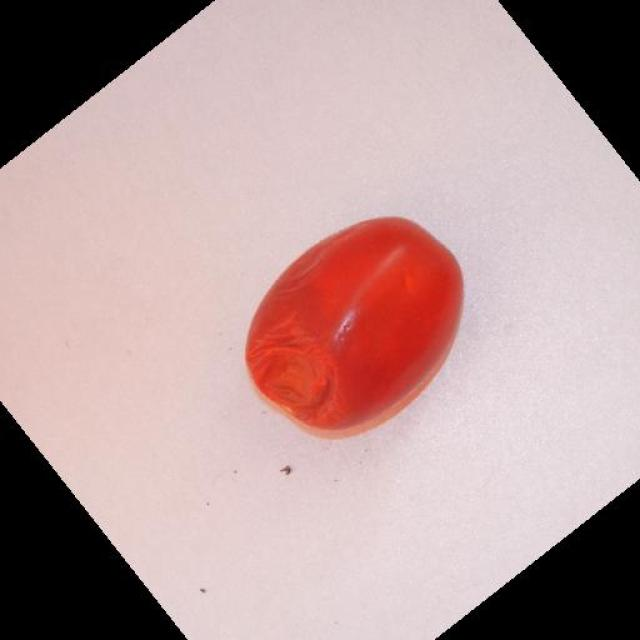Stale_tomato: (246, 177, 457, 436)
